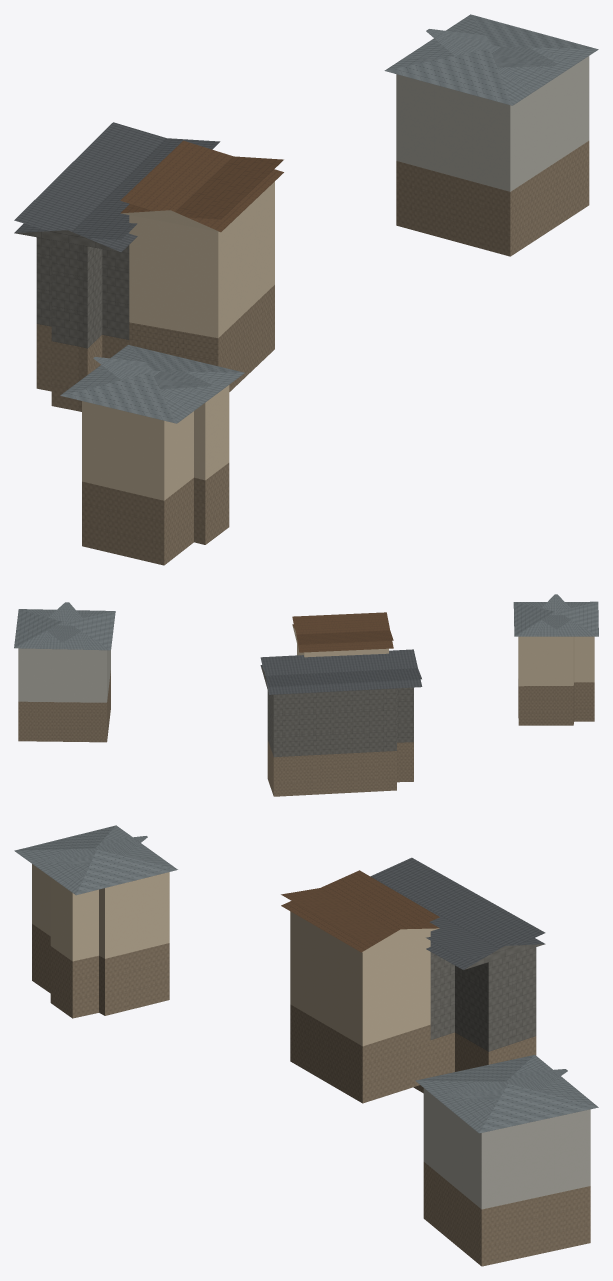
File: bld_c22_32_373.gltf
3 views of the same model, one above another, from view 1: azimuth 30°, elevation 25°; view 2: azimuth 150°, elevation 25°; view 3: azimuth 270°, elevation 25° (orthographic). The views are drawn at different scales.
Parts seen in each view (by area): view 1: bld_c22_32_373; view 2: bld_c22_32_373; view 3: bld_c22_32_373.
Part boxes in pixels (x1,y1,x2,y2): bld_c22_32_373: (14, 14, 598, 565); bld_c22_32_373: (14, 594, 598, 796); bld_c22_32_373: (14, 825, 598, 1266).
Bounding box in the file's own units: 61.36 × 16.2 × 47.33.
9 materials, 9 textured.
